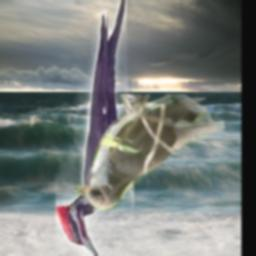Cuckoo: (75, 95, 225, 212)
Woodpecker: (55, 0, 133, 256)
